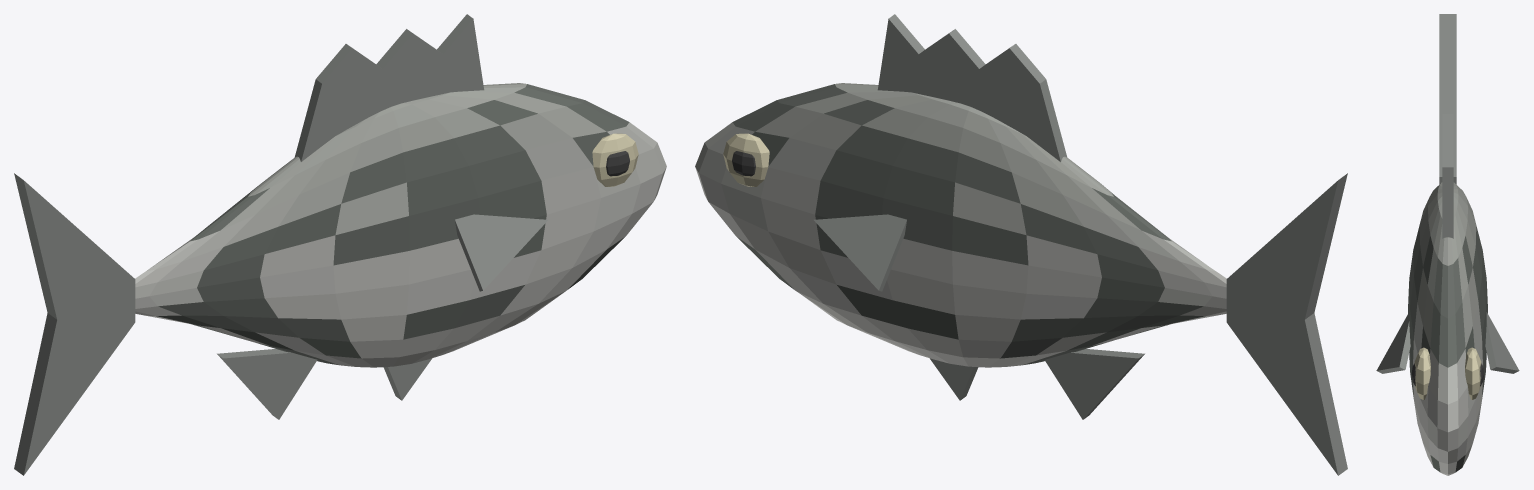
Rendered from BlackCrappie.glb.
3 renders of one model, left to right at view 1: azimuth 30°, elevation 25°; view 2: azimuth 150°, elevation 25°; view 3: azimuth 270°, elevation 25°, orthographic. The views are drawn at different scales.
Parts seen in each view (by area): view 1: BlackCrappie; view 2: BlackCrappie; view 3: BlackCrappie.
Part boxes in pixels (x1,y1,x2,y2): BlackCrappie: (14,14,666,475); BlackCrappie: (695,14,1347,475); BlackCrappie: (1376,14,1519,475).
Bounding box in the file's own units: 2.42 × 1.3 × 0.5132.
